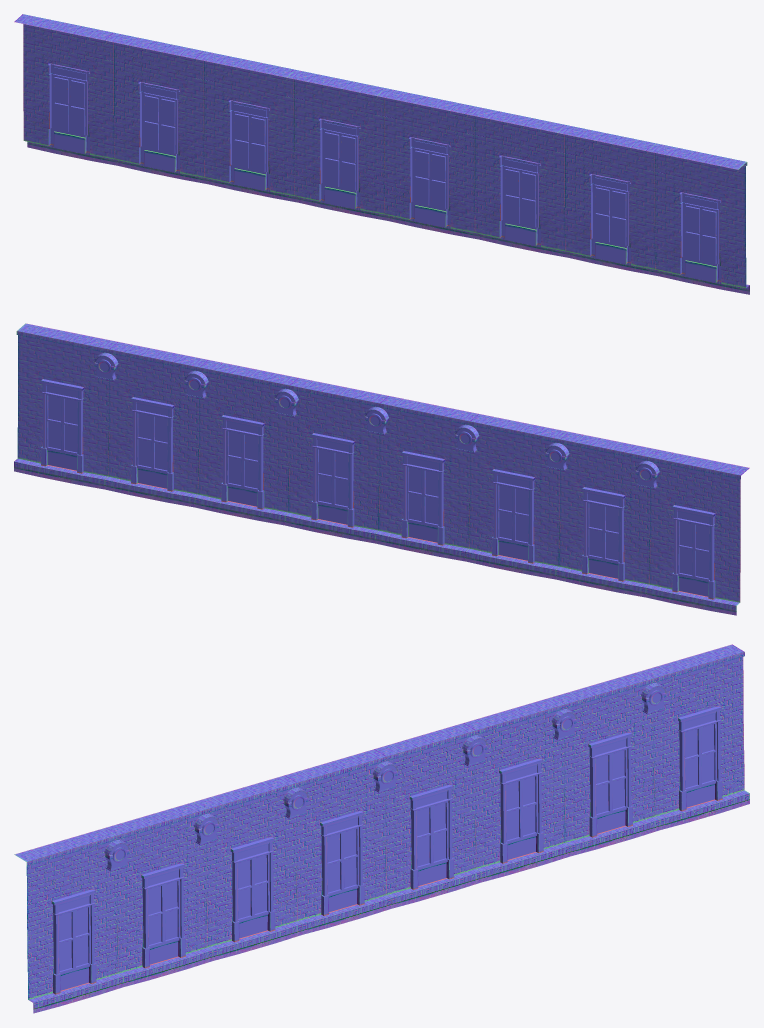
3 renders of one model, top to bottom at view 1: azimuth 30°, elevation 25°; view 2: azimuth 210°, elevation 25°; view 3: azimuth 270°, elevation 25°, orthographic. The views are drawn at different scales.
Parts seen in each view (by area): view 1: roof_low_004; view 2: roof_low_004; view 3: roof_low_004.
Boxes of the visible parts, x1,y1,x2,y2 form: roof_low_004: (14, 14, 749, 294); roof_low_004: (14, 323, 749, 615); roof_low_004: (14, 644, 749, 1013).
Bounding box in the file's own units: 949 × 304 × 1346.
